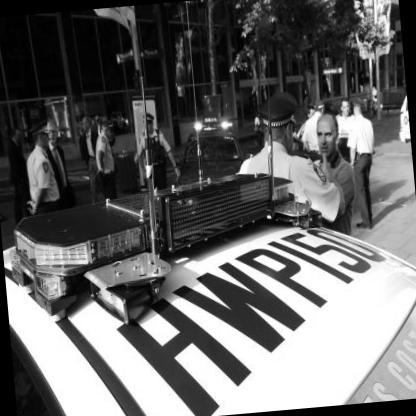car: (182, 121, 248, 200)
